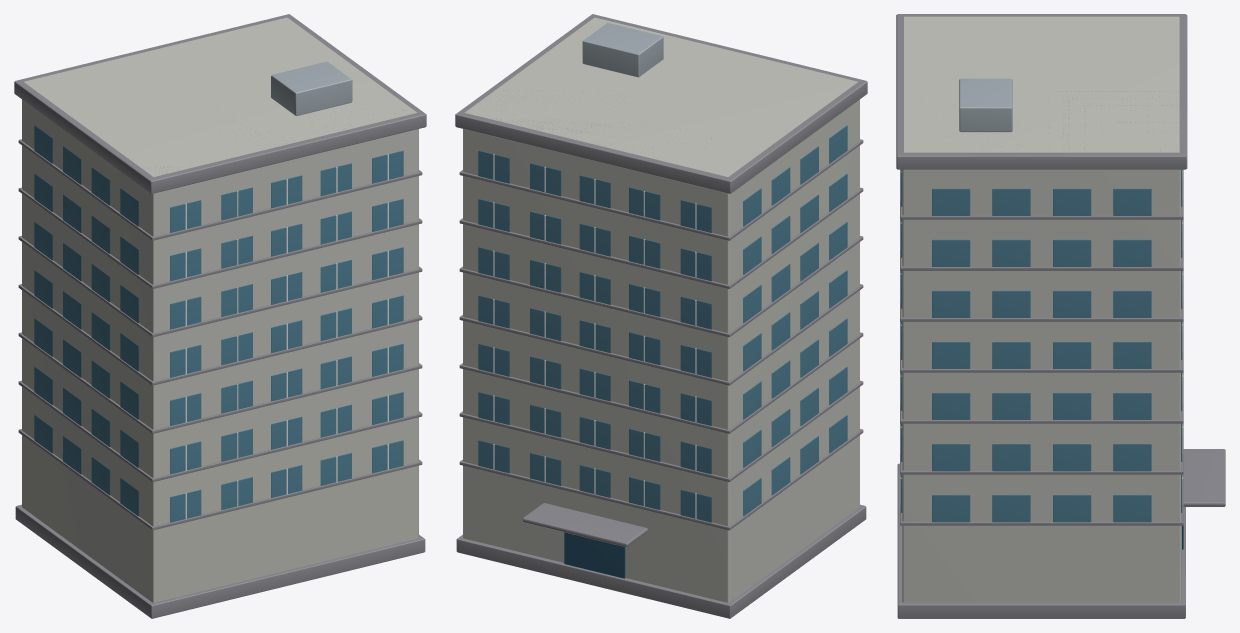
File: office.glb
3 renders of one model, left to right at view 1: azimuth 30°, elevation 25°; view 2: azimuth 150°, elevation 25°; view 3: azimuth 270°, elevation 25°, orthographic. The views are drawn at different scales.
Visible parts, largest first — view 1: office_tower, office_Building_Window_Blue, office_Roof_Clay, office_Brushed_Metal, office_Chrome; view 2: office_tower, office_Building_Window_Blue, office_Roof_Clay, office_Brushed_Metal, office_entry, office_Chrome; view 3: office_tower, office_Building_Window_Blue, office_Roof_Clay, office_Brushed_Metal, office_Chrome.
Part boxes in pixels (x1,y1,x2,y2): office_tower: (22,17,418,602); office_Building_Window_Blue: (34,125,403,522); office_Roof_Clay: (14,14,426,618); office_Brushed_Metal: (271,61,352,116); office_Chrome: (185,154,388,519); office_tower: (463,17,859,602); office_Building_Window_Blue: (478,125,847,522); office_Roof_Clay: (455,14,867,618); office_Brushed_Metal: (582,23,663,77); office_entry: (564,532,625,578); office_Chrome: (493,154,696,519); office_tower: (902,16,1181,602); office_Building_Window_Blue: (901,169,1182,522); office_Roof_Clay: (896,14,1225,618); office_Brushed_Metal: (959,78,1012,132); office_Chrome: (900,169,1183,505).
Size of the model in its own units: 14.5 by 23.2 by 14.15.
